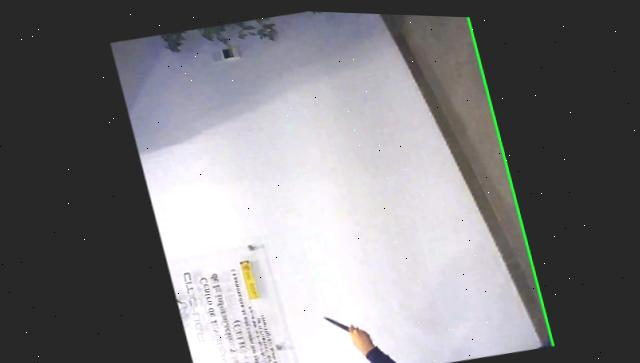pocket-knife: (317, 305, 368, 342)
